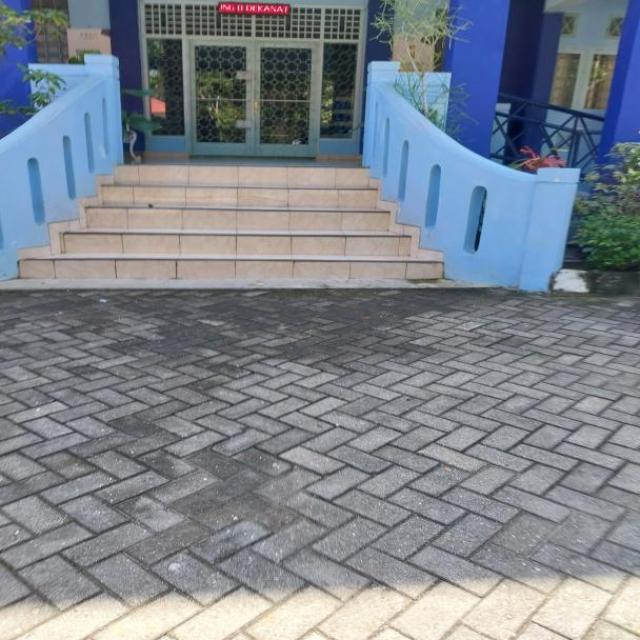stairs ahead at: (23, 166, 442, 283)
